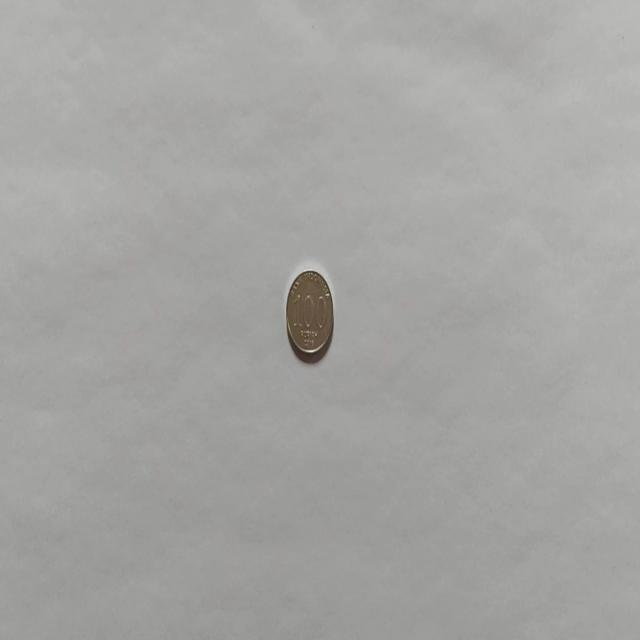seratus rupiah: (285, 268, 334, 360)
